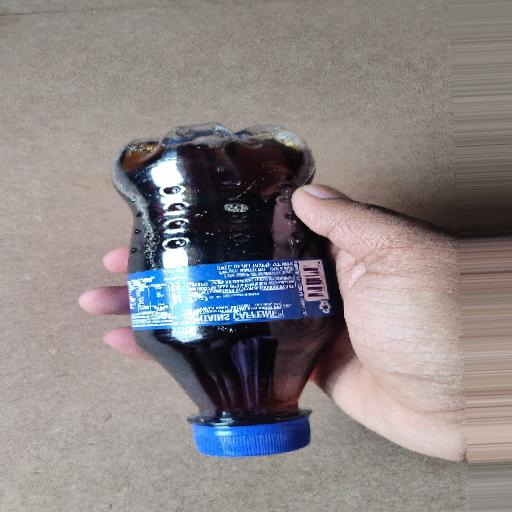Thumps Up: (82, 111, 389, 475)
